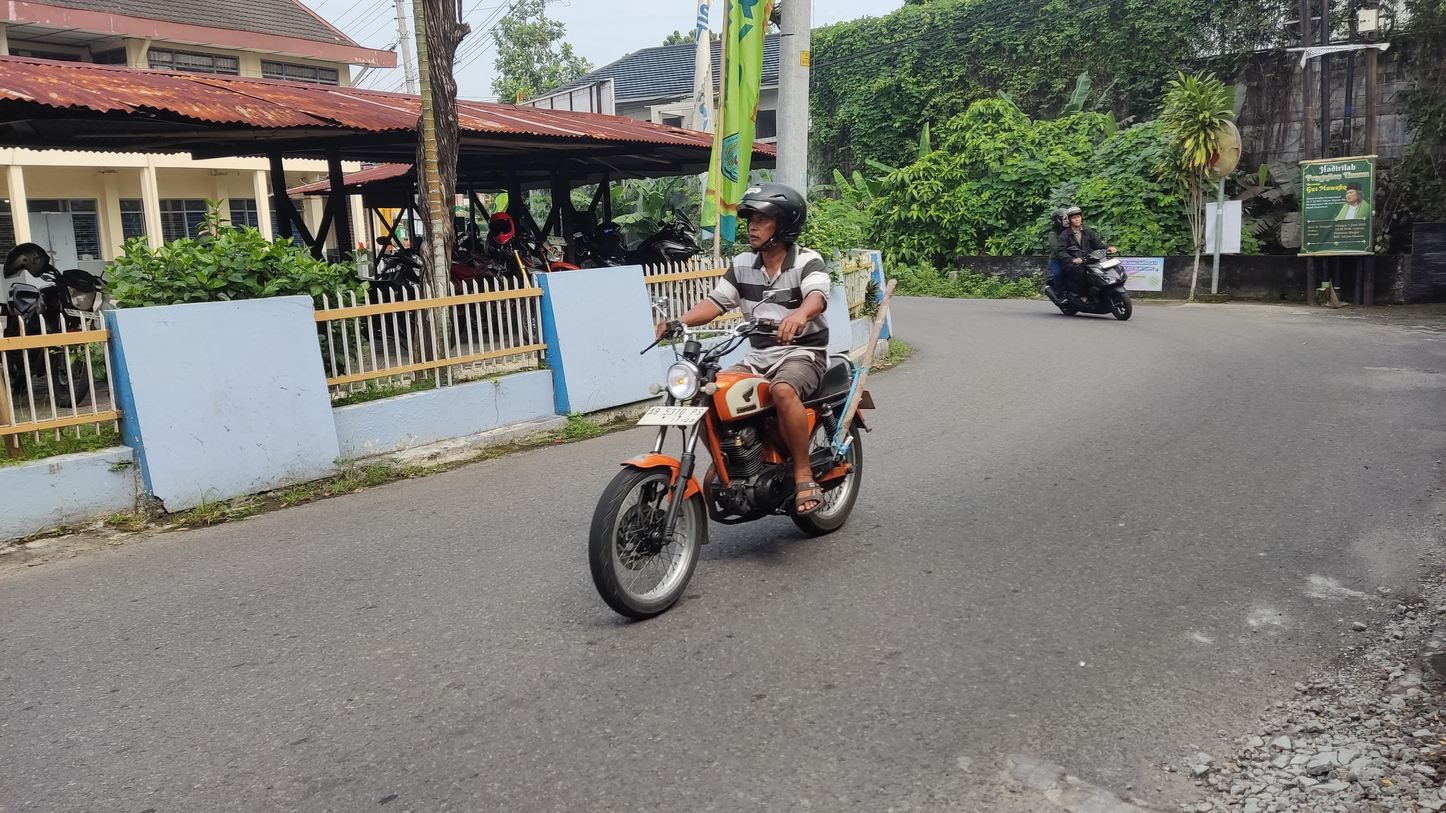helm: (735, 181, 809, 252)
riding: (586, 180, 879, 623)
